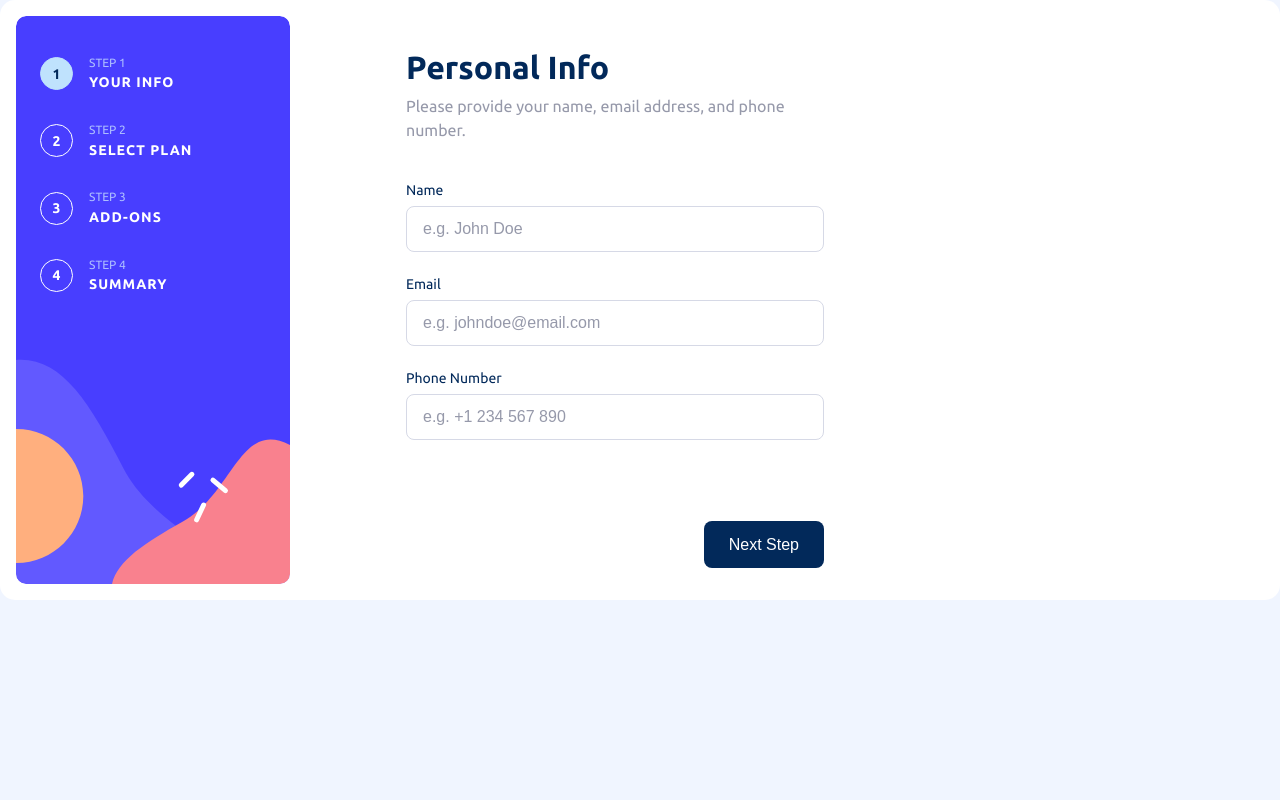
Test case: render the personal info form
Type "Duck" into the field labelled "Name".
click(615, 229); type("Duck")  # box left=406, top=206, right=824, bottom=252
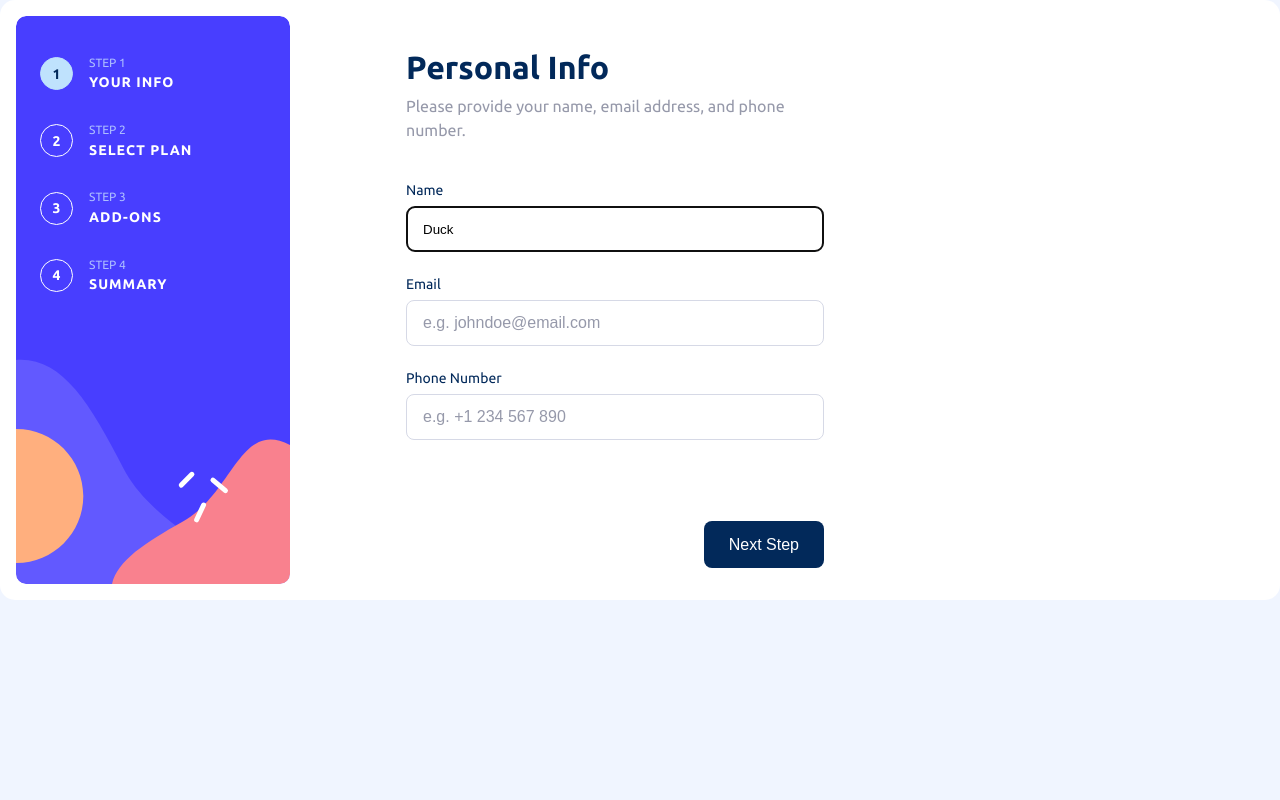
Type "duck@email.com" into the field labelled "Email".
click(615, 323); type("duck@email.com")  # box left=406, top=300, right=824, bottom=346
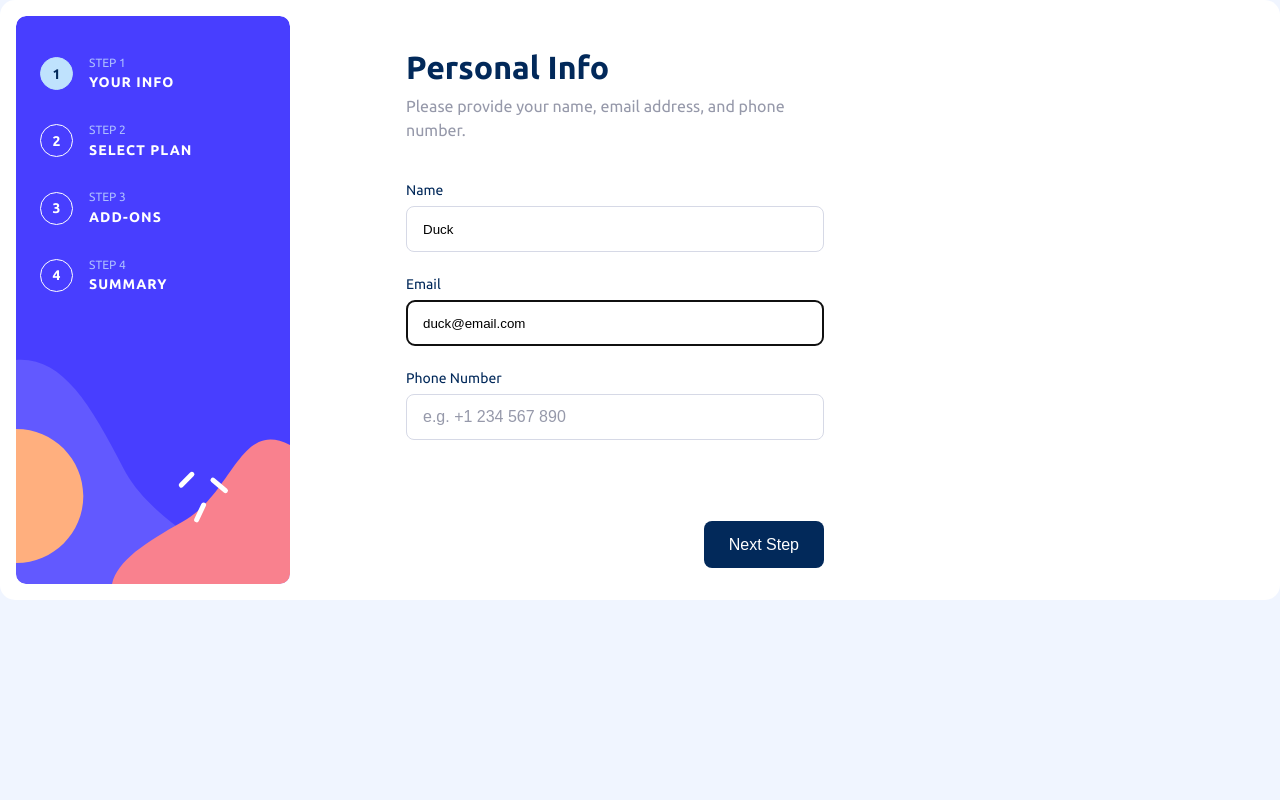
Type "123456789" into the field labelled "Phone Number".
click(615, 417); type("123456789")  # box left=406, top=394, right=824, bottom=440
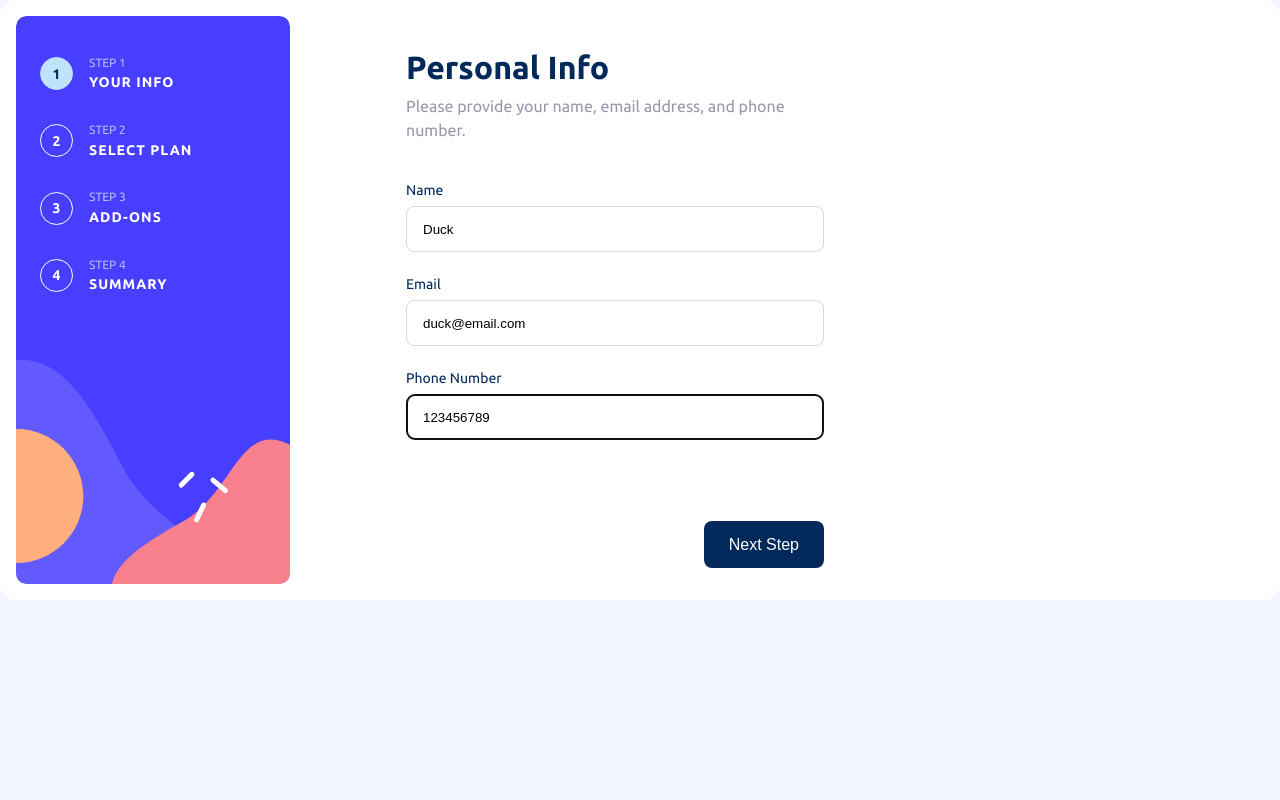
Click the button "Next Step".
click(764, 544)  # box left=704, top=521, right=824, bottom=568
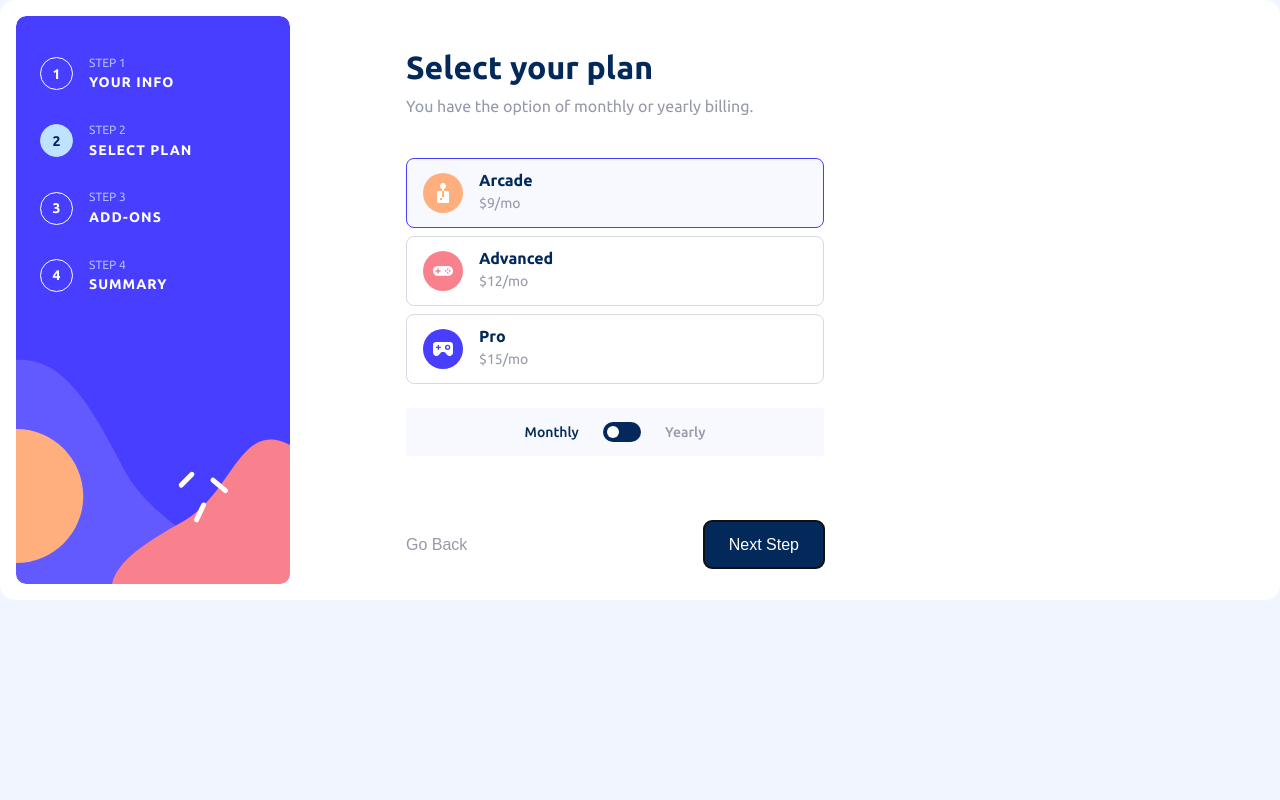
Check: the heading "Select your plan" is shown, box left=406, top=49, right=653, bottom=85
